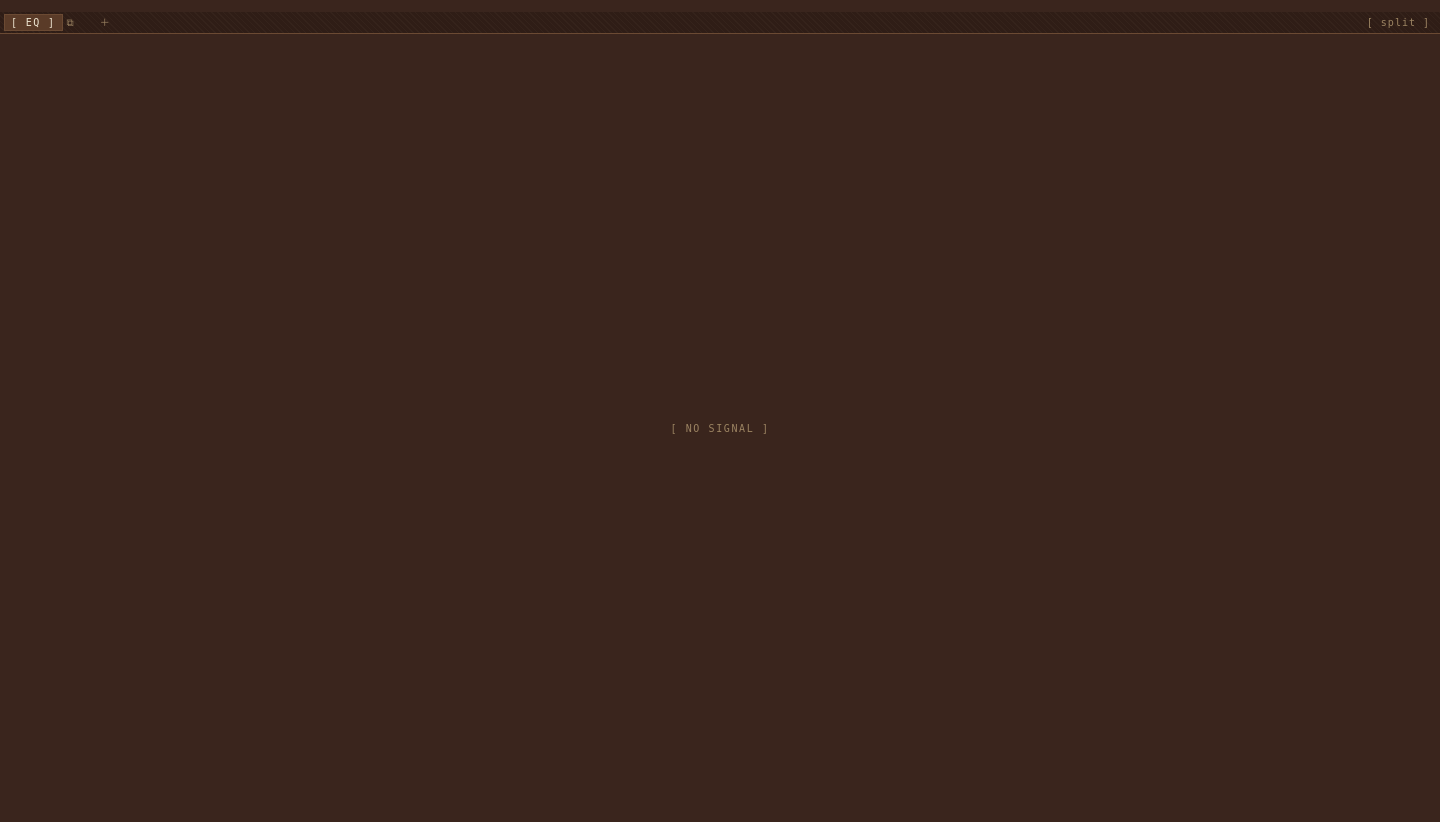
Test: PluginDock › splits into two panes and merges back without closing devices
Click the button titled "Split into two panes": click(1398, 22) [1361,14,1436,31]
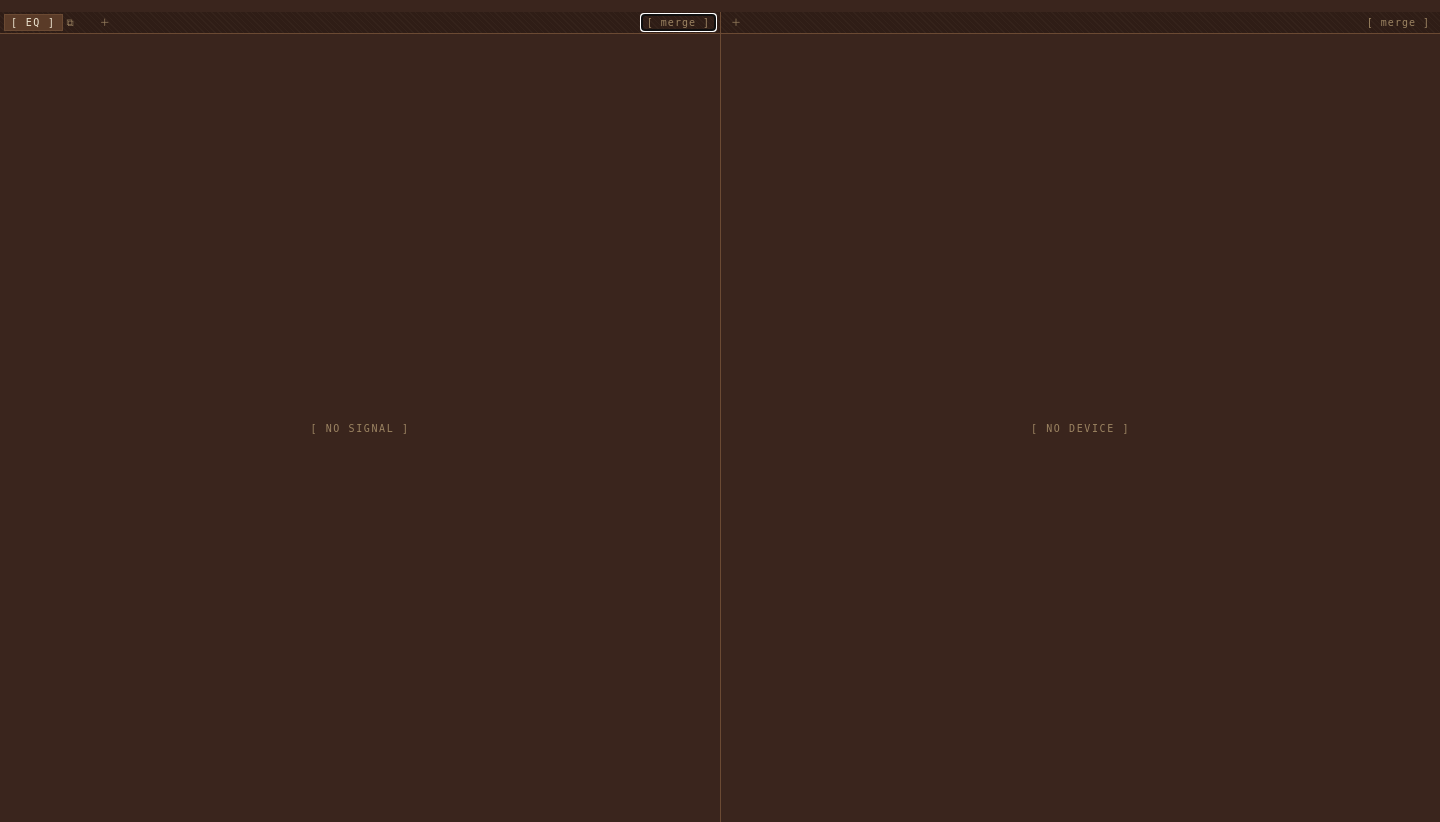
expect the number of elements with class "dock-pane" is 2: met, box [0,12,720,821]; [720,12,1439,821]
Click the 2nd button titled "Add device": click(736, 22) [725,14,748,31]
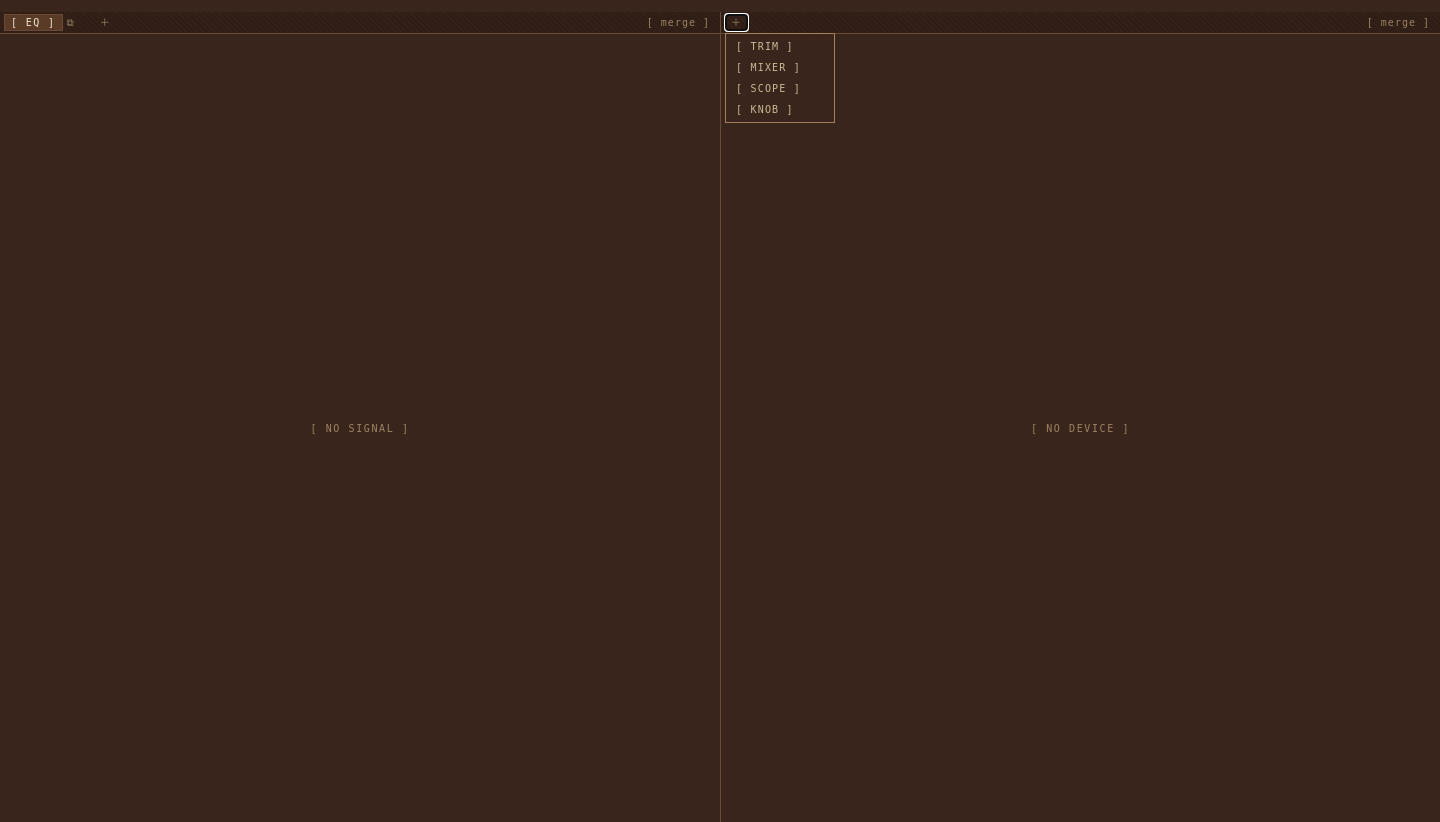
Click the menu item "[ MIXER ]": click(780, 68) [726,57,834,78]
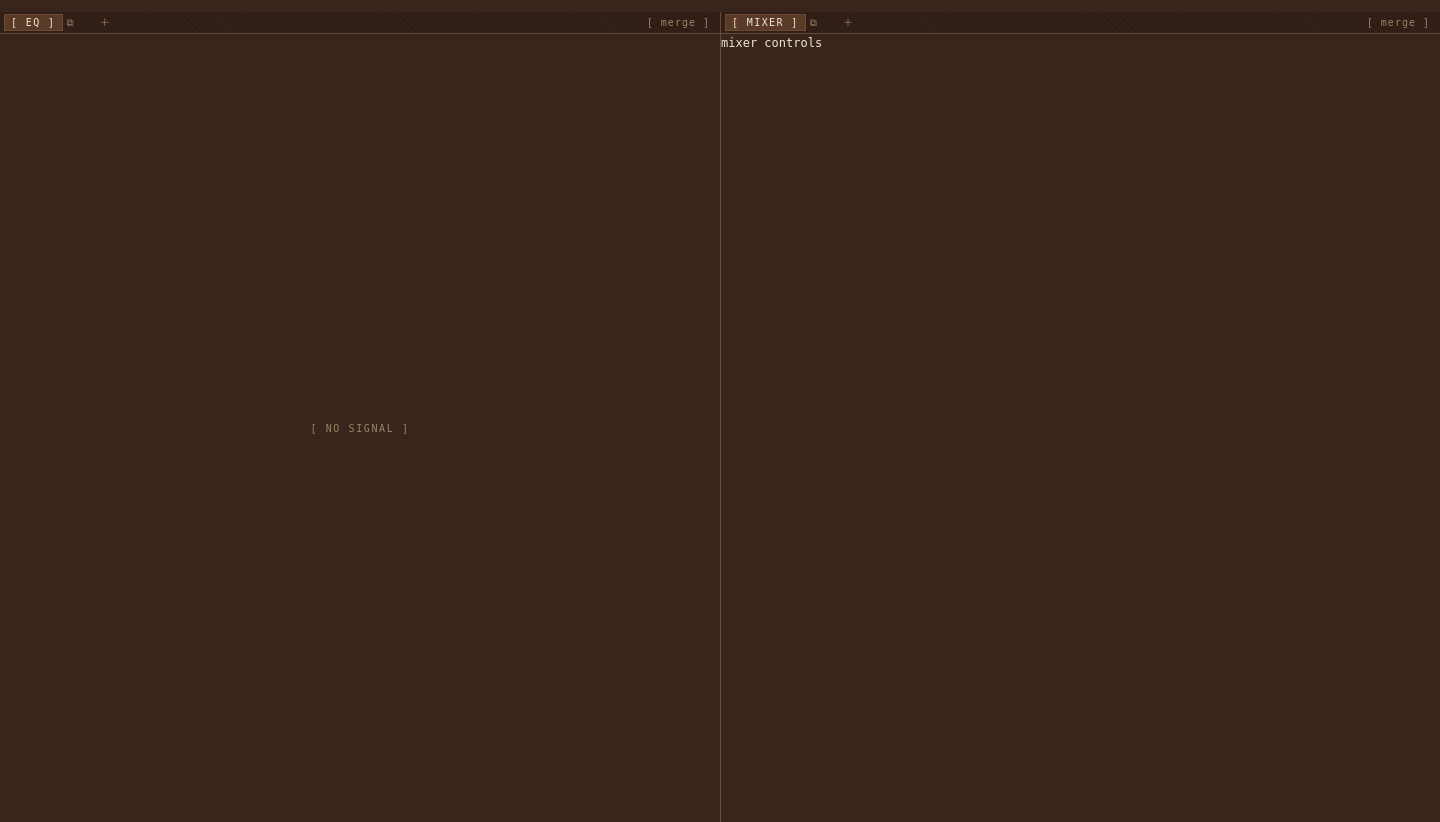
Click the 1st button titled "Merge back to one pane": click(678, 22) [641,14,716,31]
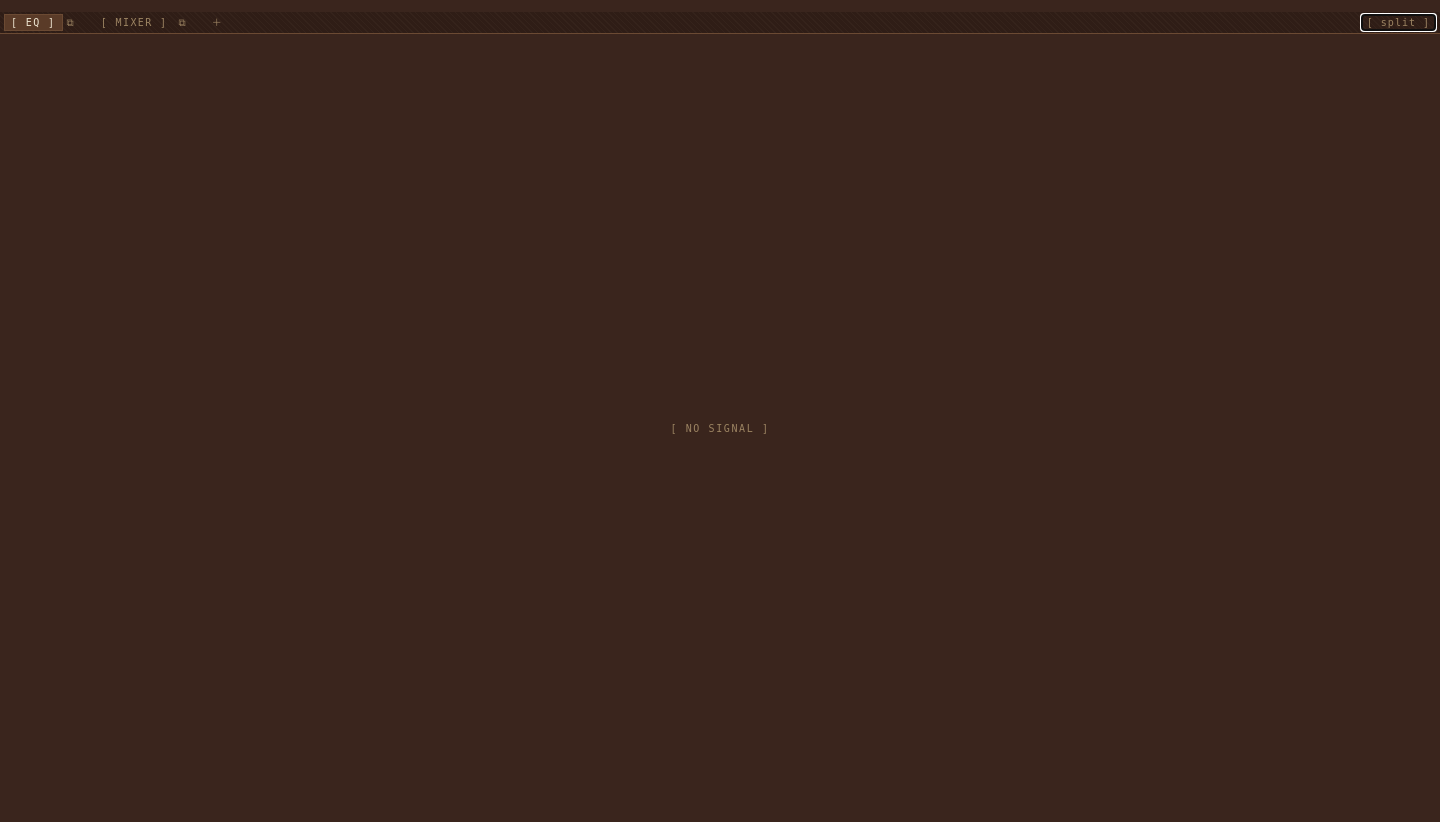
expect the button "[ EQ ]" is shown: met, box [4,14,62,31]
expect the button "[ MIXER ]" is shown: met, box [94,14,174,31]
expect the number of elements with class "dock-pane" is 1: met
